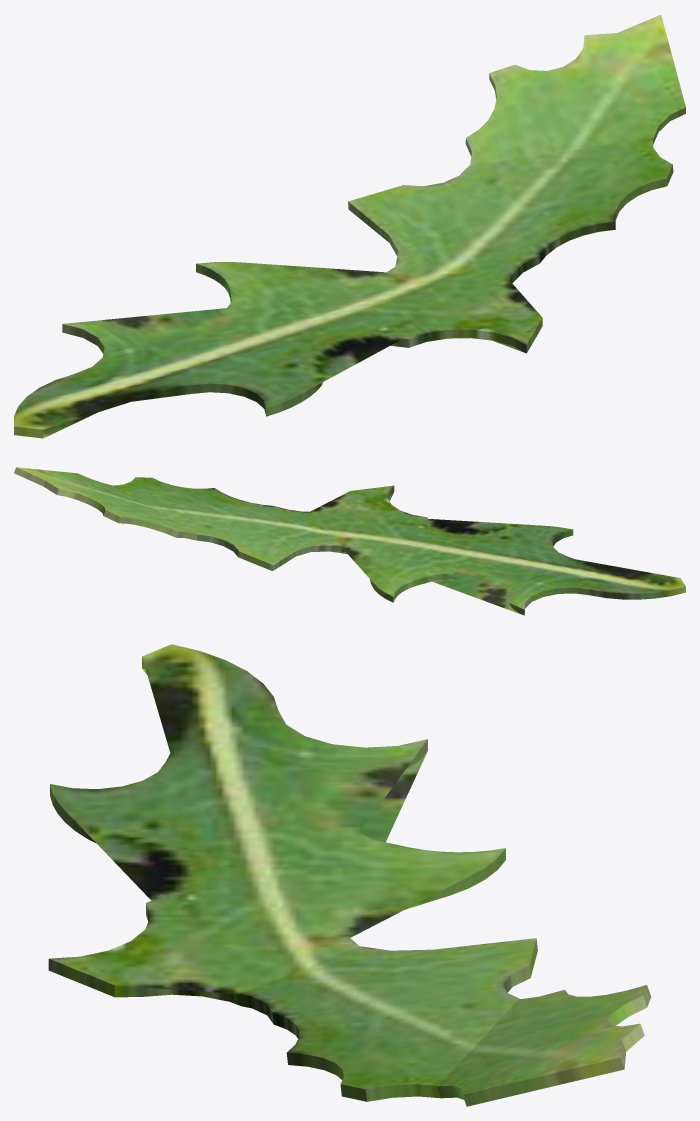
Rendered from Lettuce.fbx.
The picture shows the model from 3 angles, top to bottom: view 1: azimuth 30°, elevation 25°; view 2: azimuth 150°, elevation 25°; view 3: azimuth 270°, elevation 25°; orthographic projection. The views are drawn at different scales.
Parts seen in each view (by area): view 1: OuterShell; view 2: OuterShell; view 3: OuterShell.
Part boxes in pixels (x1,y1,x2,y2): OuterShell: [14, 14, 685, 438]; OuterShell: [14, 467, 685, 615]; OuterShell: [48, 644, 651, 1106].
Bounding box in the file's own units: 36.98 × 4.52 × 17.27.
